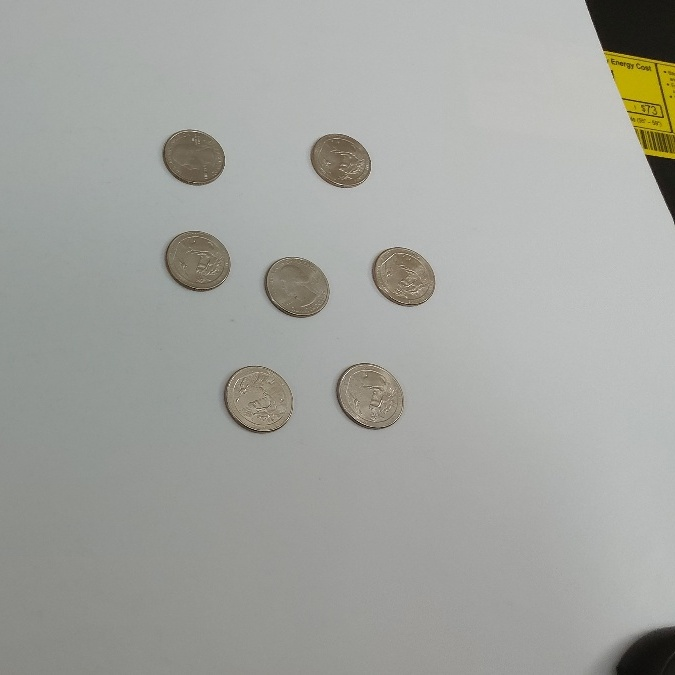coin_quarter: (224, 360, 295, 436), (339, 355, 409, 431), (261, 252, 336, 322), (364, 243, 439, 313), (159, 225, 234, 294), (156, 122, 227, 188), (306, 130, 374, 188)
